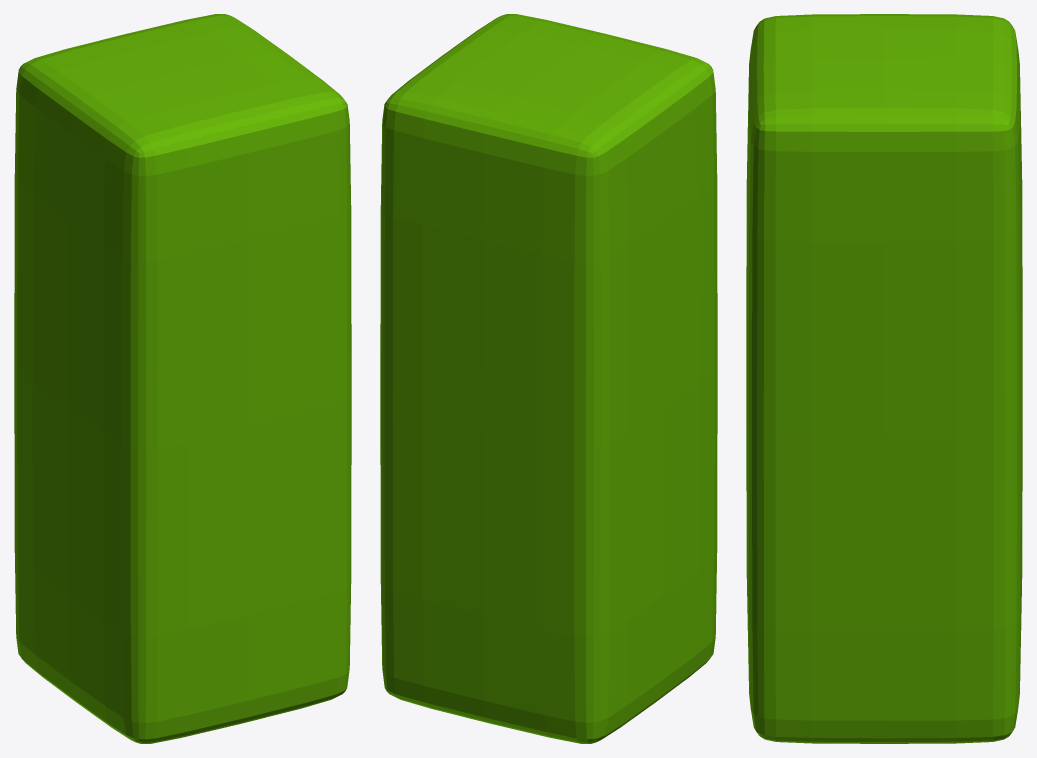
File: Pilar Pembatas Datar.fbx
The picture shows the model from 3 angles, left to right: view 1: azimuth 30°, elevation 25°; view 2: azimuth 150°, elevation 25°; view 3: azimuth 270°, elevation 25°; orthographic projection. The views are drawn at different scales.
Visible parts, largest first — view 1: pilar pembatas datar; view 2: pilar pembatas datar; view 3: pilar pembatas datar.
Part boxes in pixels (<box>): pilar pembatas datar: <box>14,14,351,743</box>; pilar pembatas datar: <box>380,14,717,743</box>; pilar pembatas datar: <box>746,14,1022,743</box>.
Bounding box in the file's own units: 114 × 290 × 114.
